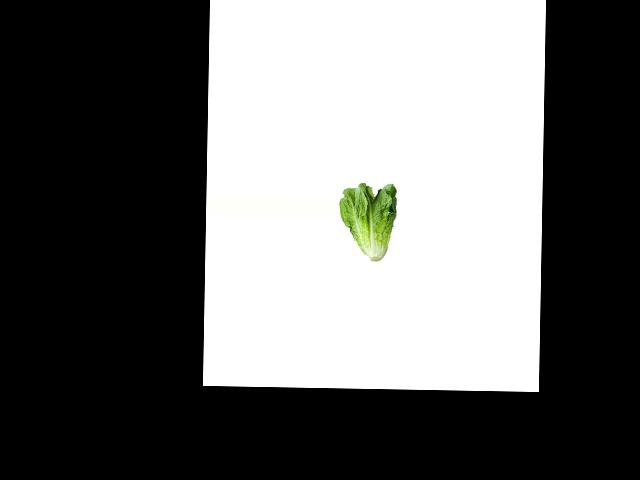lettuce: (339, 182, 398, 263)
